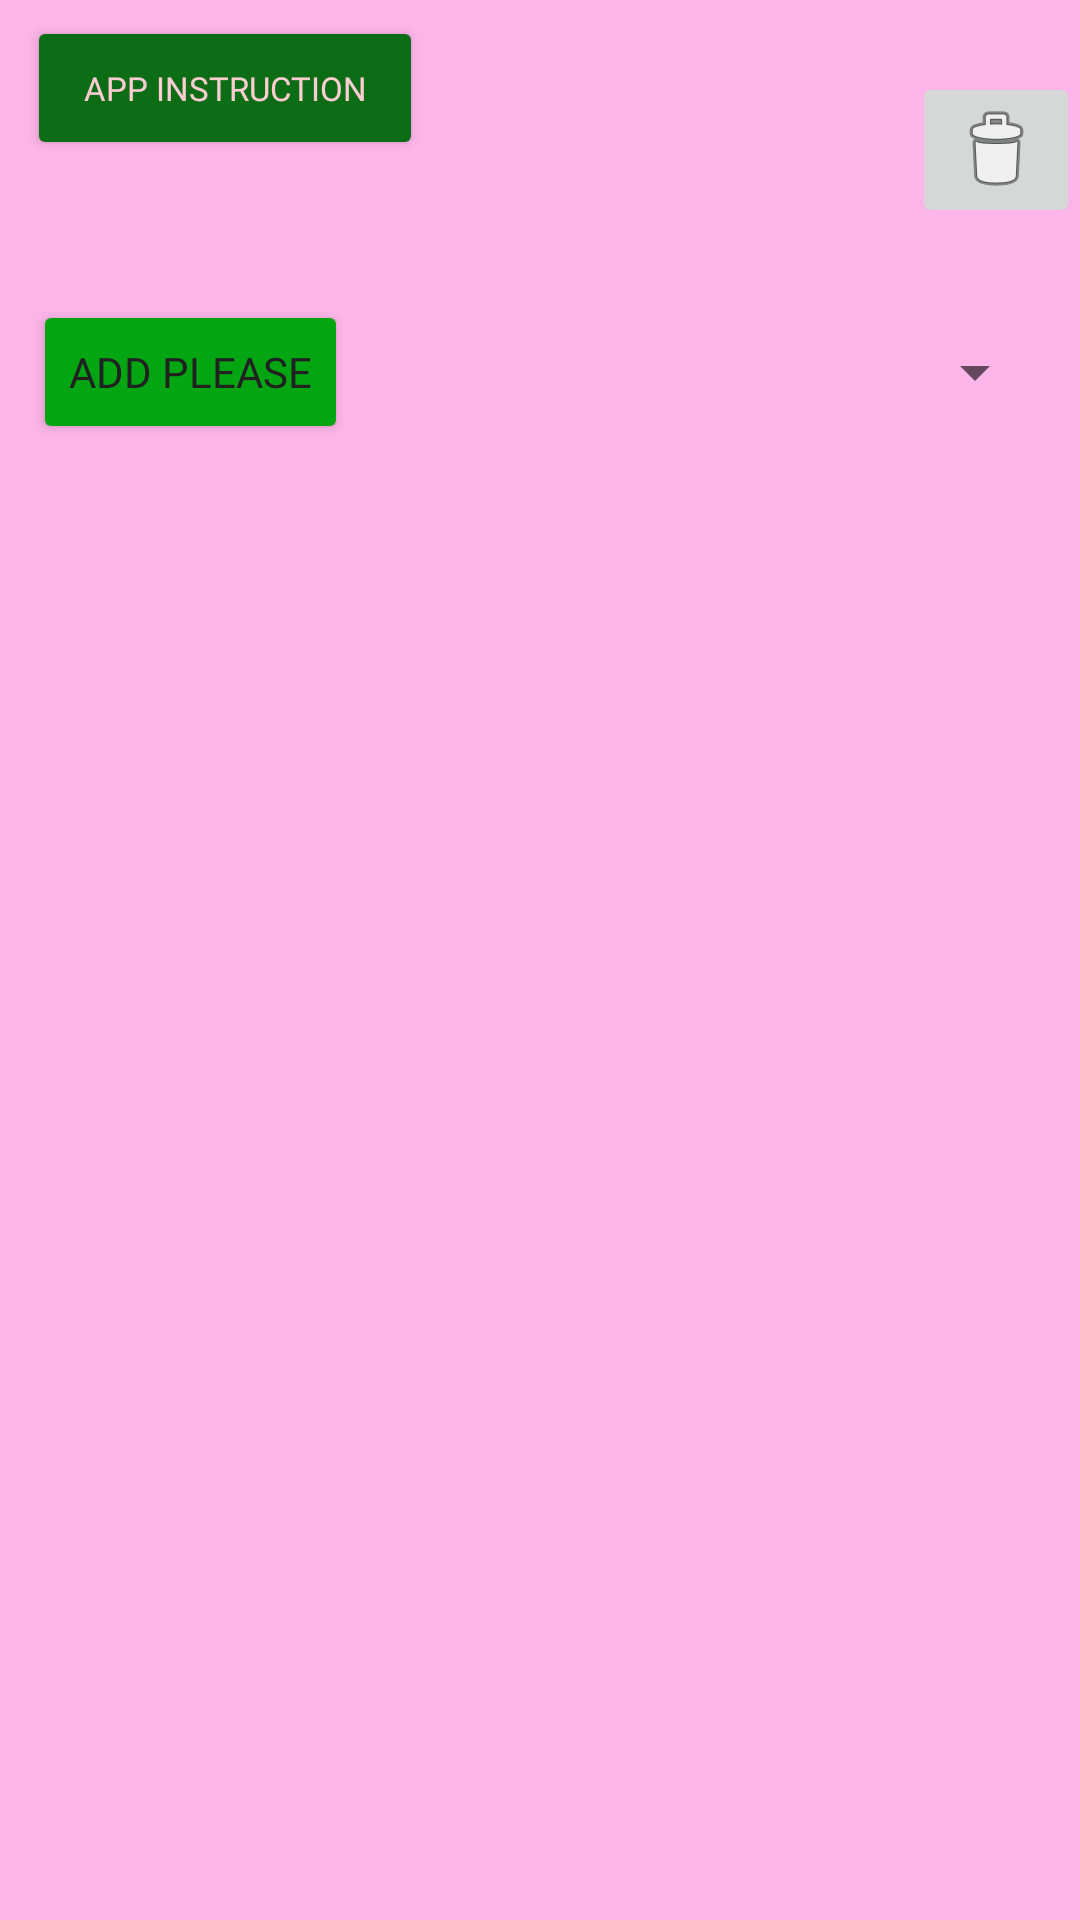

Where to tap for icons on this 1080*1920 app screen, as [x,y]:
delete: [996,150]
